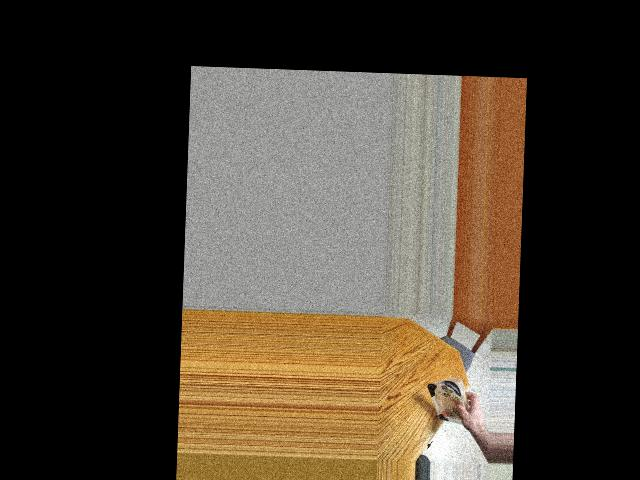cheese: (429, 379, 466, 429)
